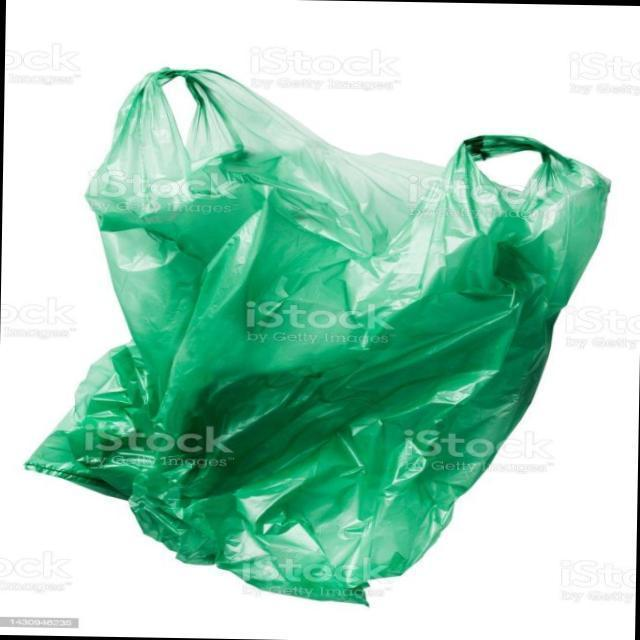Plastic_Bag: (41, 63, 568, 604)
